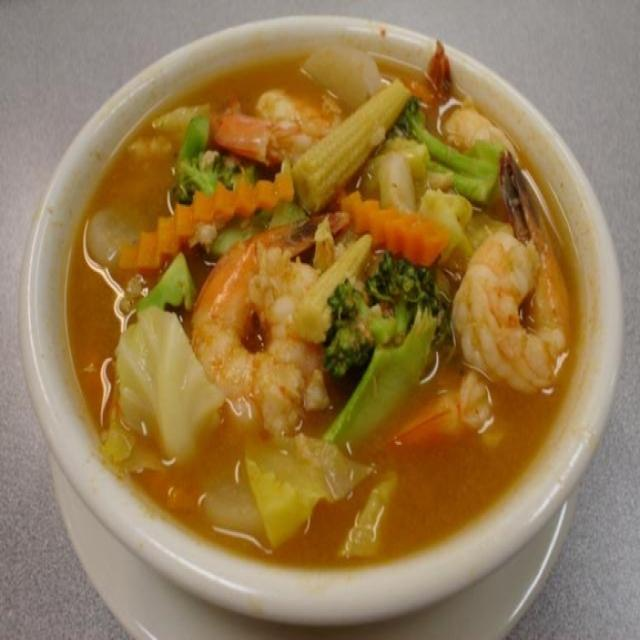汤锅炖物: (21, 15, 623, 618)
